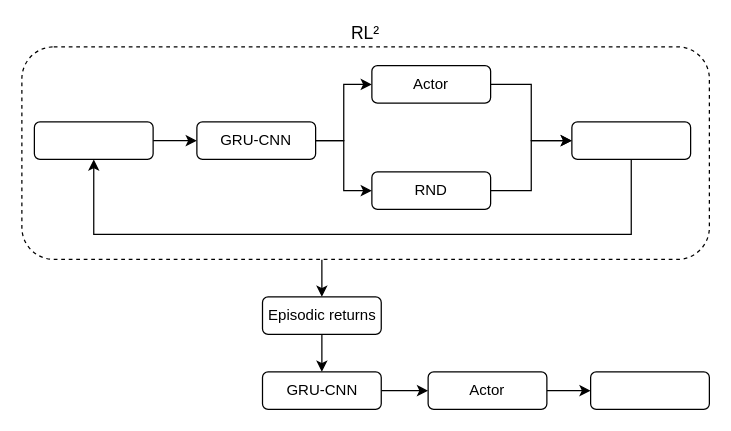
Image size: 731x431. Some labels were removed from this diagram. Each missing label, with the centre of its shape:
Action: pixel 631 140
Observation: pixel 93 140
Policy gradient: pixel 649 390
